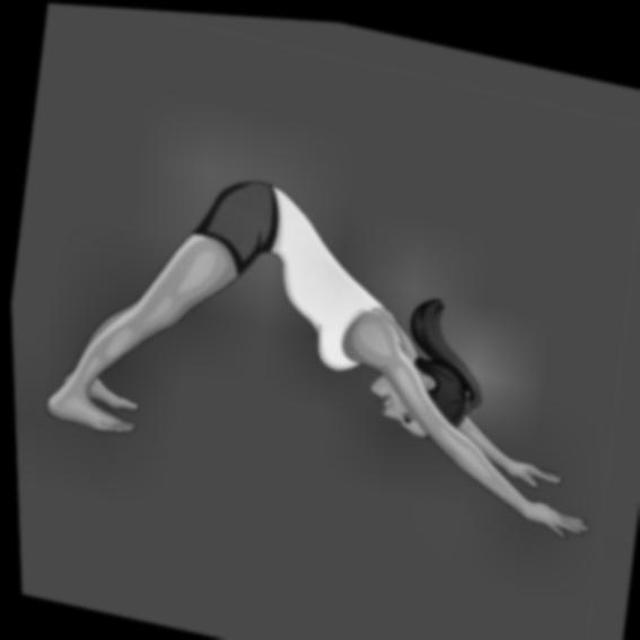Downward-Facing_Dog: (39, 169, 594, 543)
